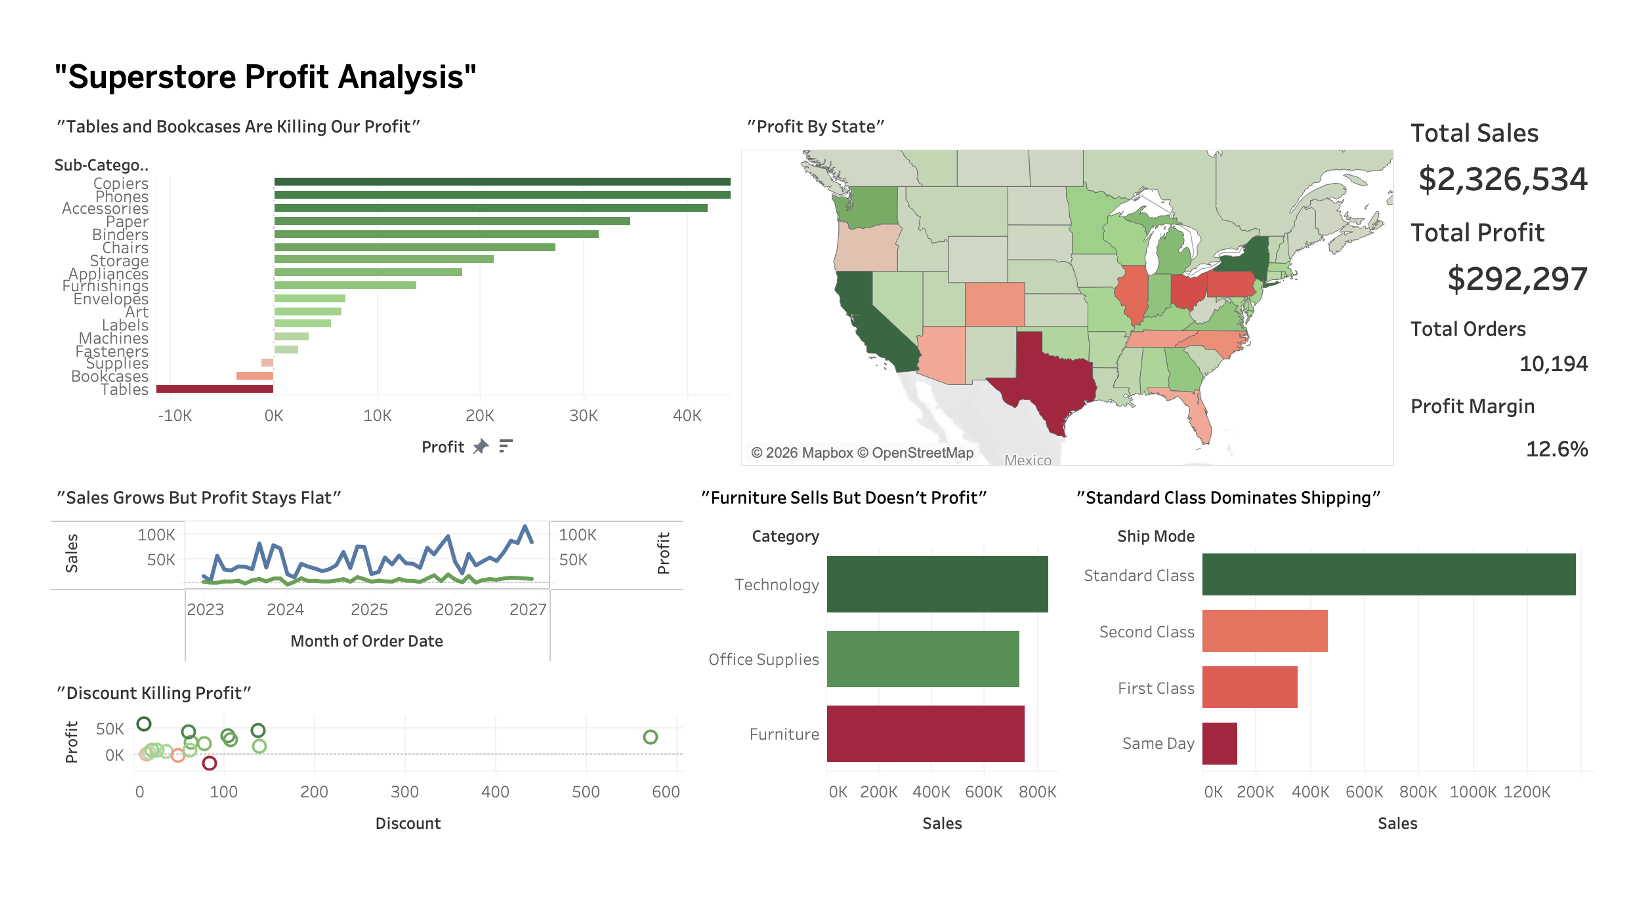

Layout of this report page (visuals, bound fields, positions):
{"tool":"tableau","page":{"name":"Dashboard 1","canvas":[1000,1000],"units":"permille","ordinal":0},"visuals":[{"type":"title","box":[6.7,12.8,986.7,59.4]},{"type":"worksheet","title":"Most profi","mark":"Automatic","rows":["Sub-Category"],"cols":["Profit"],"box":[6.7,72.2,438,454.9]},{"type":"worksheet","title":"Profit by state","mark":"Automatic","box":[444.7,72.2,422,454.9]},{"type":"worksheet","title":"Total Sales","mark":"Text","box":[866.6,72.2,126.7,122.7]},{"type":"worksheet","title":"Total Profit","mark":"Text","box":[866.6,195,126.7,122.7]},{"type":"worksheet","title":"Total Orders","mark":"Text","box":[866.6,317.7,126.7,94.7]},{"type":"worksheet","title":"Profit Margin","mark":"Text","box":[866.6,412.4,126.7,114.7]},{"type":"worksheet","title":"Sales vs growth","mark":"Automatic","rows":["Sales","Profit"],"cols":["Order Date"],"box":[6.7,527.1,409.5,238.5]},{"type":"worksheet","title":"Furniture Loss Profit","mark":"Automatic","rows":["Category"],"cols":["Sales"],"box":[416.2,527.1,237.8,460.1]},{"type":"worksheet","title":"\"Standard Class Dominates Shipping\" ","mark":"Automatic","rows":["Ship Mode"],"cols":["Sales"],"box":[654,527.1,339.4,460.1]},{"type":"worksheet","title":"\"Discount Killing Profit\"","mark":"Automatic","rows":["Profit"],"cols":["Discount"],"box":[6.7,765.6,409.5,221.5]}]}

Visuals, with their boxes on the dashboard's canvas, which has no fixed pixel size, in thousandths of its width and height (x1, y1, x2, y2). These are canvas units, not pixel positions in the 1648x912 screenshot, which may show the page scaled, cropped or inside an application window:
title: Rect(7, 13, 993, 72)
"Most profi" worksheet: Rect(7, 72, 445, 527)
"Profit by state" worksheet: Rect(445, 72, 867, 527)
"Total Sales" worksheet (Text marks): Rect(867, 72, 993, 195)
"Total Profit" worksheet (Text marks): Rect(867, 195, 993, 318)
"Total Orders" worksheet (Text marks): Rect(867, 318, 993, 412)
"Profit Margin" worksheet (Text marks): Rect(867, 412, 993, 527)
"Sales vs growth" worksheet: Rect(7, 527, 416, 766)
"Furniture Loss Profit" worksheet: Rect(416, 527, 654, 987)
""Standard Class Dominates Shipping" " worksheet: Rect(654, 527, 993, 987)
""Discount Killing Profit"" worksheet: Rect(7, 766, 416, 987)
